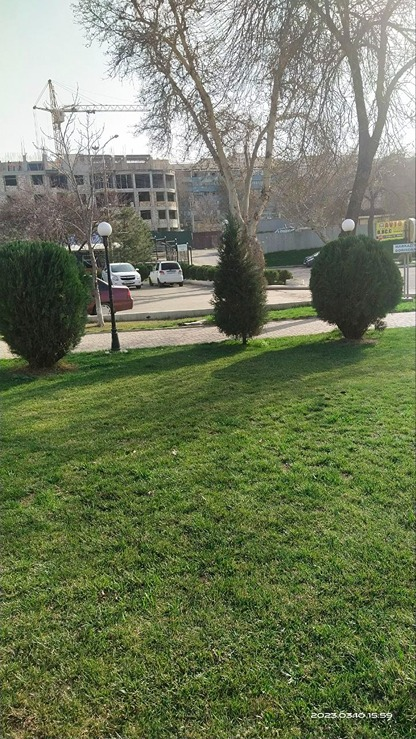car: (147, 256, 184, 284), (104, 258, 138, 287)
tree: (88, 0, 303, 218), (309, 0, 416, 219), (0, 230, 103, 374), (303, 242, 413, 336), (211, 223, 266, 346)
